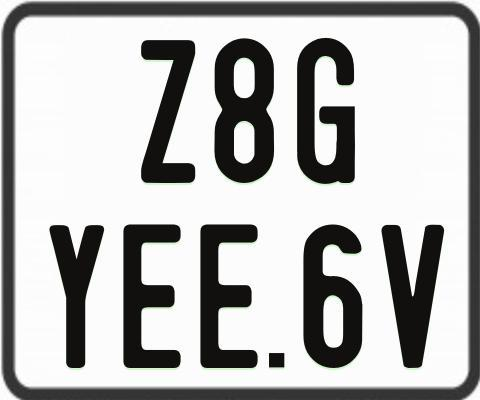6: (300, 225, 361, 370)
8: (214, 38, 279, 189)
E: (197, 225, 256, 370), (123, 225, 181, 370)
G: (296, 37, 355, 184)
V: (379, 225, 443, 374)
Y: (50, 222, 107, 366)
Z: (141, 37, 195, 181)
